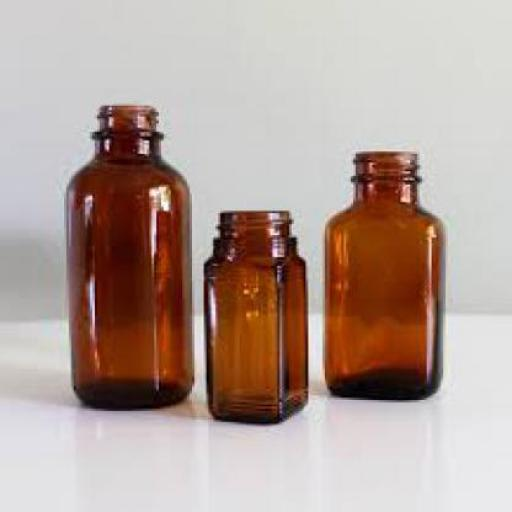glass: (64, 104, 194, 408), (324, 150, 439, 398), (202, 211, 308, 422)
